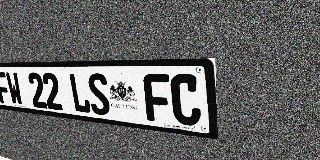2: (41, 73, 63, 110), (27, 72, 47, 109)
C: (170, 74, 201, 127)
F: (143, 74, 172, 123), (0, 72, 12, 104)
L: (68, 73, 92, 114)
S: (86, 73, 111, 116)
W: (5, 72, 24, 106)
